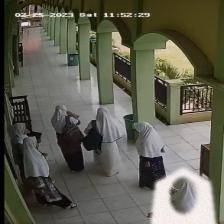Mukena: (149, 167, 217, 224)
